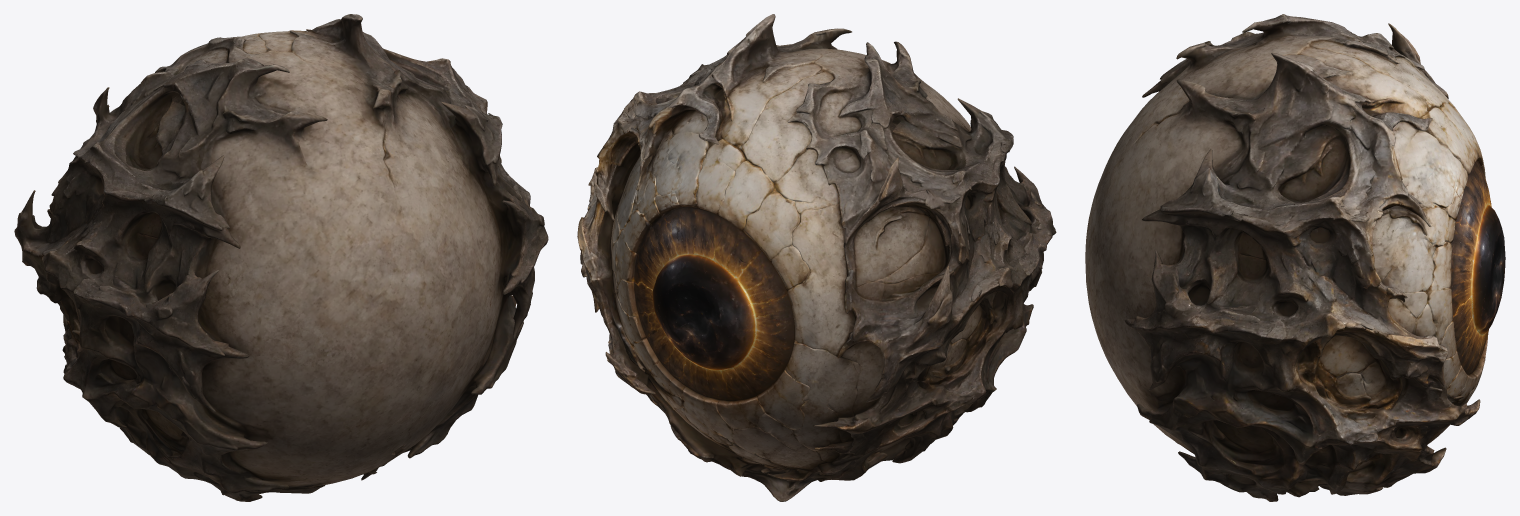
The picture shows the model from 3 angles, left to right: view 1: azimuth 30°, elevation 25°; view 2: azimuth 150°, elevation 25°; view 3: azimuth 270°, elevation 25°; orthographic projection. The views are drawn at different scales.
Visible parts, largest first — view 1: tripo_node_1fea9cdb-b594-4fa5-8a9e-34eb1a4e864e; view 2: tripo_node_1fea9cdb-b594-4fa5-8a9e-34eb1a4e864e; view 3: tripo_node_1fea9cdb-b594-4fa5-8a9e-34eb1a4e864e.
Part boxes in pixels (<box>): tripo_node_1fea9cdb-b594-4fa5-8a9e-34eb1a4e864e: <box>14,14,548,501</box>; tripo_node_1fea9cdb-b594-4fa5-8a9e-34eb1a4e864e: <box>577,14,1056,501</box>; tripo_node_1fea9cdb-b594-4fa5-8a9e-34eb1a4e864e: <box>1085,14,1505,501</box>.
Bounding box in the file's own units: 0.979 × 0.9761 × 0.7906.
Materials: 1 (1 with a texture image).
